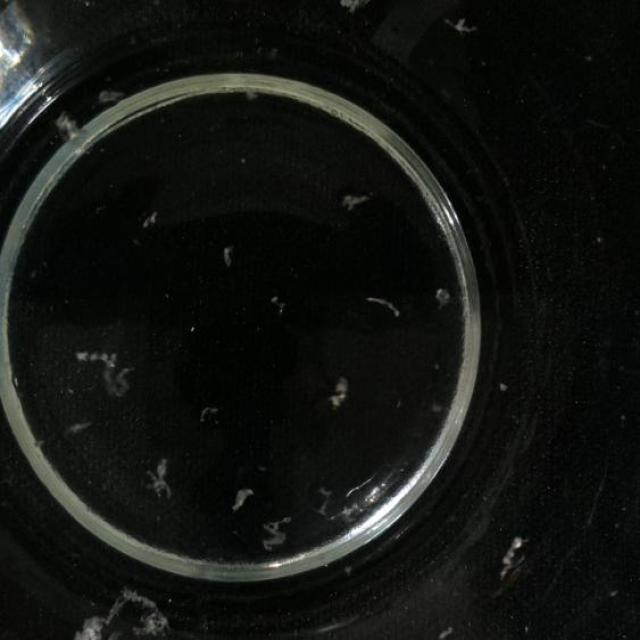fiber: (67, 577, 177, 639), (78, 342, 141, 410), (358, 286, 410, 325), (141, 452, 180, 503), (495, 524, 532, 577), (48, 107, 90, 150), (262, 509, 298, 552), (324, 374, 352, 422), (443, 6, 481, 38), (230, 476, 258, 514), (334, 0, 387, 19), (94, 74, 122, 105), (335, 185, 372, 207), (215, 237, 239, 267), (130, 208, 163, 229), (426, 279, 452, 304)
